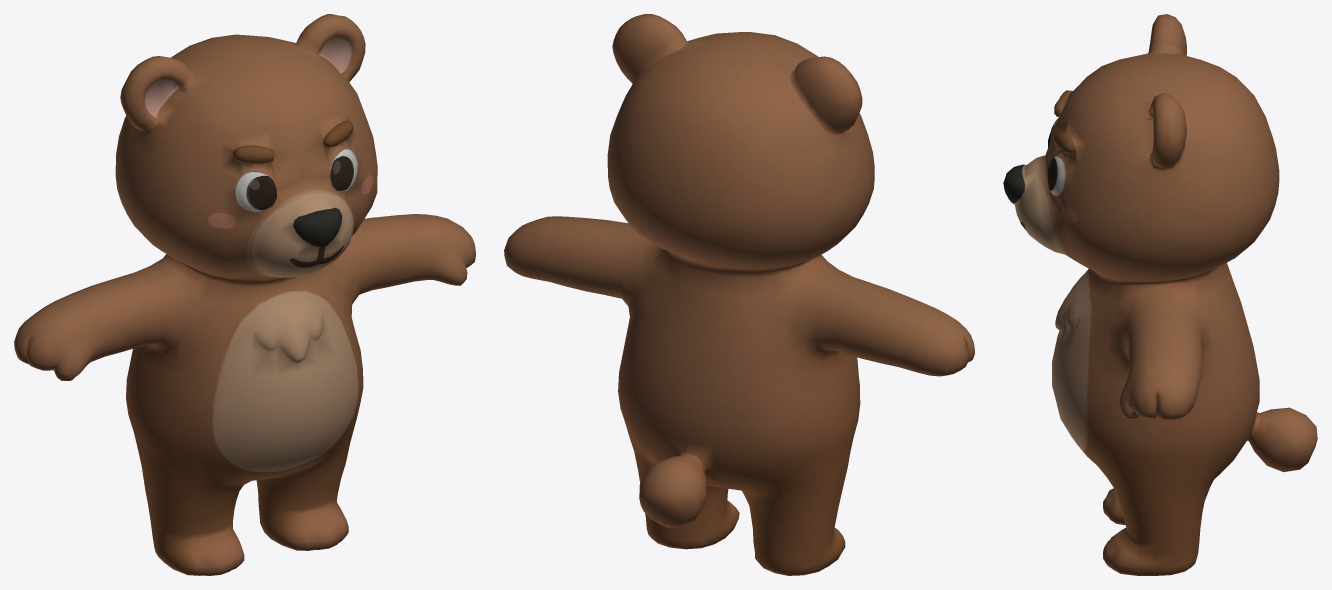
Rendered from tripo_convert_963470e2-9110-4fe8-b6b6-5b94f220e2ea.fbx.
3 renders of one model, left to right at view 1: azimuth 30°, elevation 25°; view 2: azimuth 150°, elevation 25°; view 3: azimuth 270°, elevation 25°, orthographic. The views are drawn at different scales.
Visible parts, largest first — view 1: tripo_node_963470e2; view 2: tripo_node_963470e2; view 3: tripo_node_963470e2.
Boxes of the visible parts, <box> form: tripo_node_963470e2: <box>14,14,475,575</box>; tripo_node_963470e2: <box>504,14,974,575</box>; tripo_node_963470e2: <box>1003,14,1317,575</box>.
Bounding box in the file's own units: 93.55 × 59.18 × 99.8.
1 material, 1 textured.
